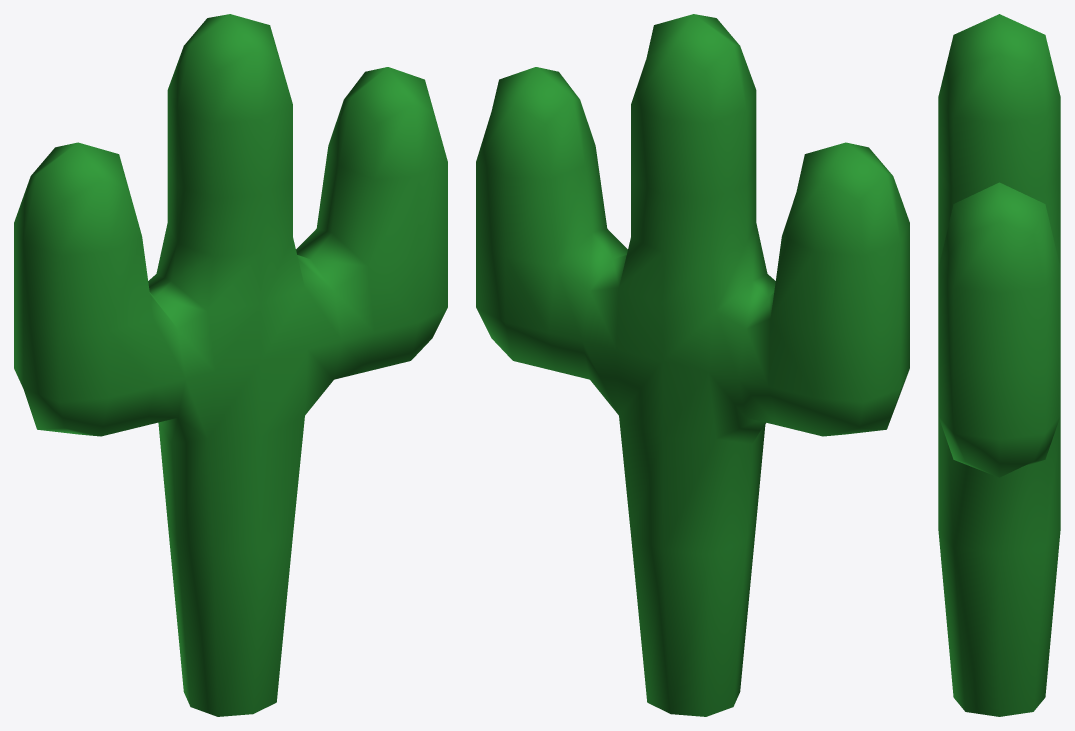
The model's file is Cactus3.fbx.
3 views of the same model, side by side, from view 1: azimuth 30°, elevation 25°; view 2: azimuth 150°, elevation 25°; view 3: azimuth 270°, elevation 25° (orthographic).
Visible parts, largest first — view 1: pCube2; view 2: pCube2; view 3: pCube2.
Part boxes in pixels (x1=…): pCube2: x1=14, y1=14, x2=447, y2=716; pCube2: x1=476, y1=14, x2=909, y2=716; pCube2: x1=938, y1=14, x2=1060, y2=716.
Size of the model in its own units: 39.01 by 61.56 by 10.
